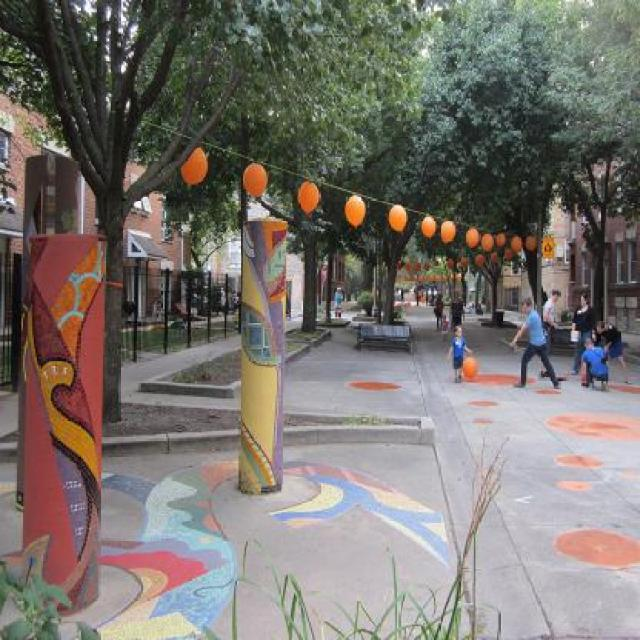Person: (395, 285, 483, 384), (594, 322, 631, 386), (536, 287, 559, 379), (571, 292, 595, 376), (582, 338, 610, 392), (332, 285, 342, 318)
